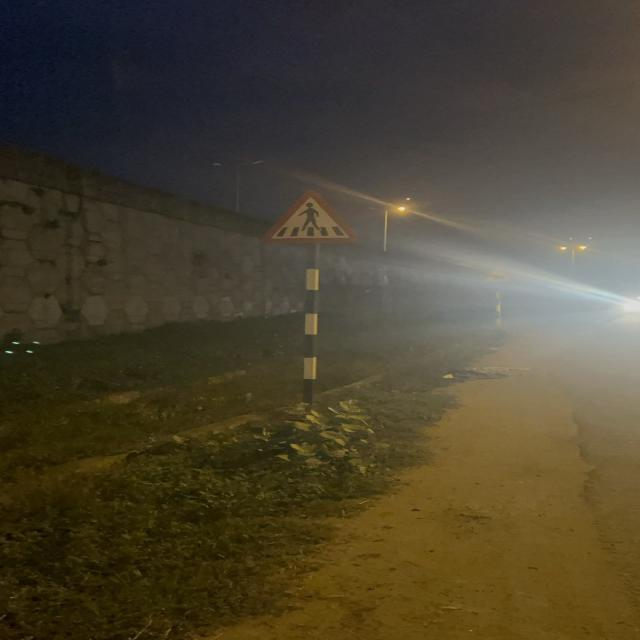Pedestrain_crossing: (263, 192, 357, 242)
